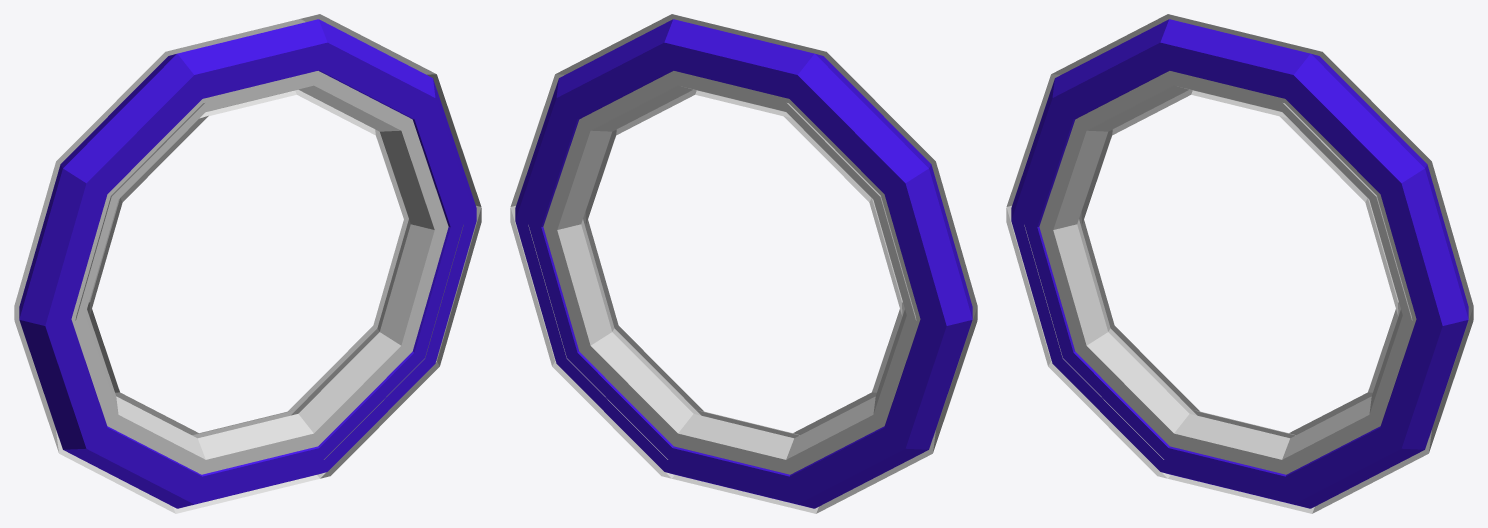
Rendered from Boost.glb.
The picture shows the model from 3 angles, left to right: view 1: azimuth 30°, elevation 25°; view 2: azimuth 150°, elevation 25°; view 3: azimuth 330°, elevation 25°; orthographic projection.
Visible parts, largest first — view 1: Inside; view 2: Inside; view 3: Inside.
Boxes of the visible parts, x1,y1,x2,y2 form: Inside: (14,14,481,513); Inside: (510,14,977,513); Inside: (1006,14,1473,513).
Bounding box in the file's own units: 4.49 × 4.27 × 0.5167.
